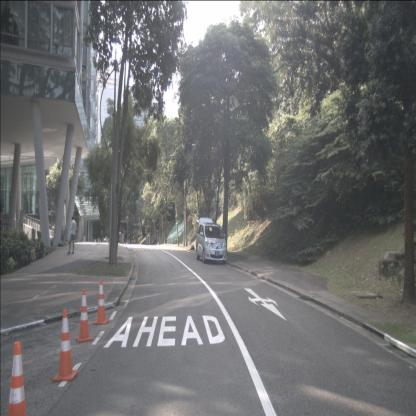cone: (53, 309, 78, 382), (7, 341, 28, 416), (75, 289, 93, 343), (93, 279, 109, 325), (171, 239, 174, 244)
